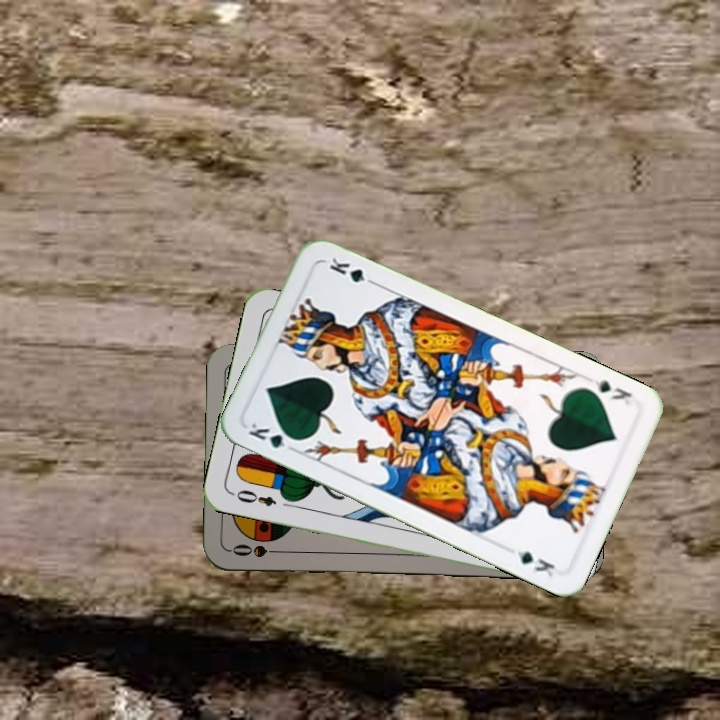EO: (227, 485, 279, 510)
GK: (244, 418, 302, 455), (589, 375, 635, 408)
SO: (228, 540, 287, 560)
